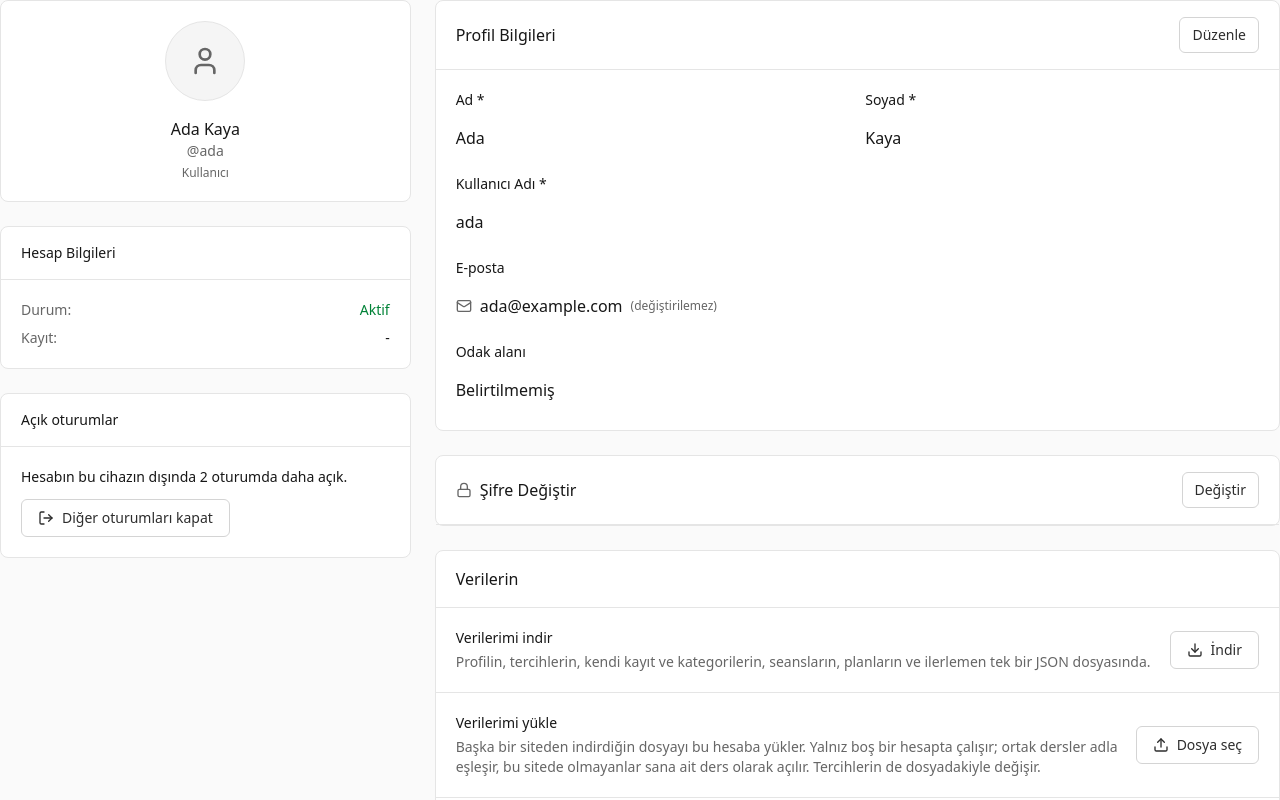
Test: shows how many other sessions are signed in and signs them out from the account tab
This screenshot has width=1280, height=800.
Expected: the text "Hesabın bu cihazın dışında 2 oturumda daha açık." is shown, [21,467,390,487]
What coordinates should you click on to do the following:
click the button "Diğer oturumları kapat"
I would click on:
 (125, 518)
Its box is [21,499,230,537].
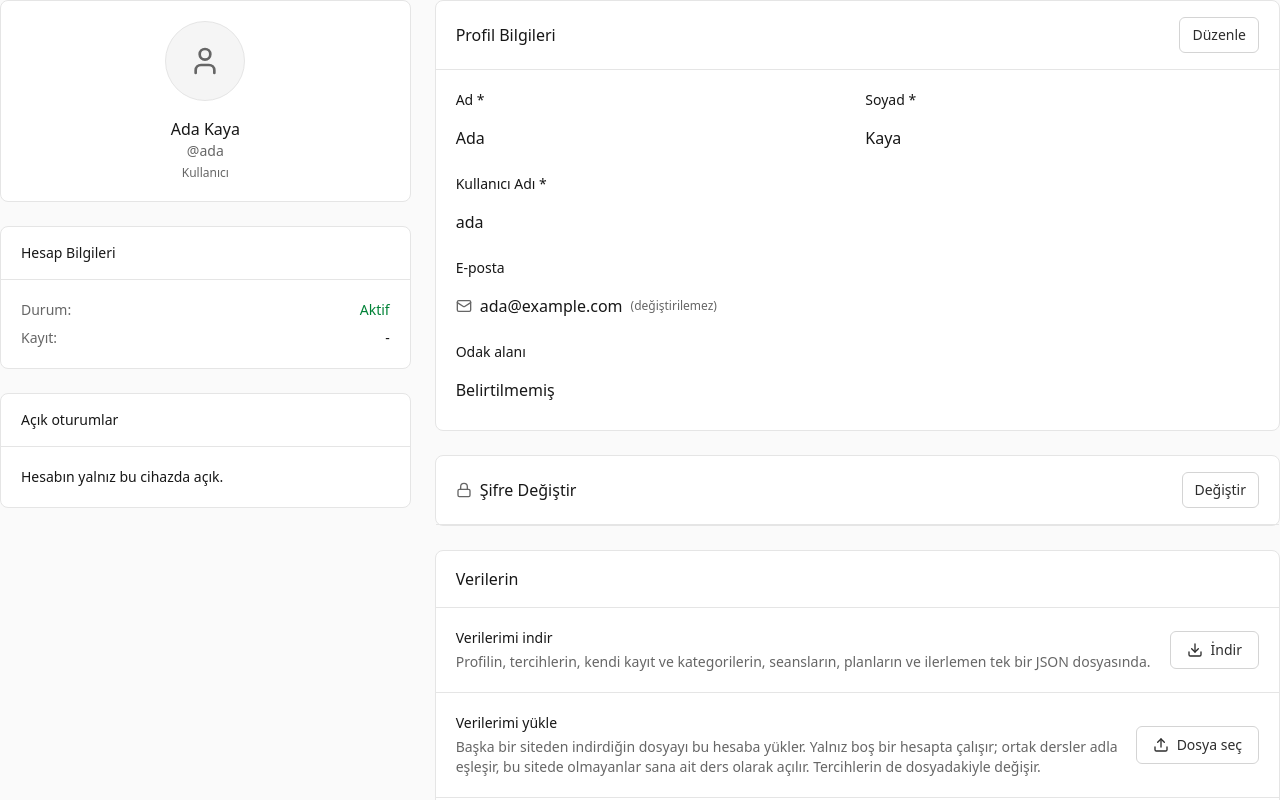
Expected: the text "Hesabın yalnız bu cihazda açık." is shown, [21,467,223,486]
Expected: the button "Diğer oturumları kapat" is gone
